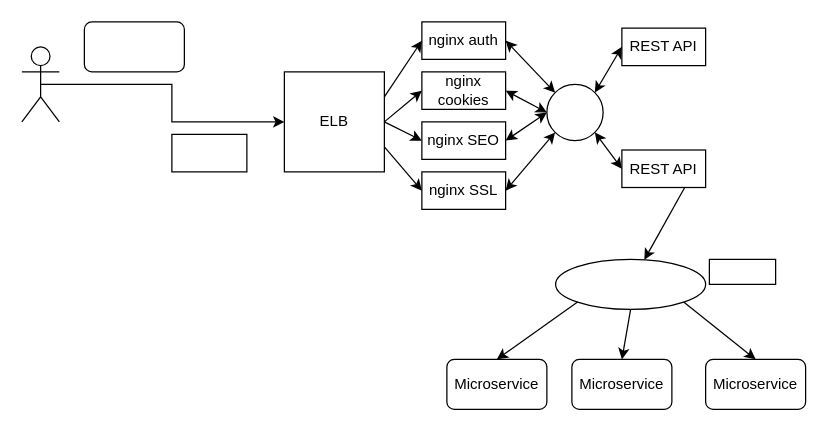
Some shapes in this 828 by 431 pixel diagram are drawn without their labels. Each missing label, with the centre of its shape:
Actor: point 40,84
Broker: point 742,271
CDN: point 209,152
Route 53: point 133,46
Thrift API: point 630,283
